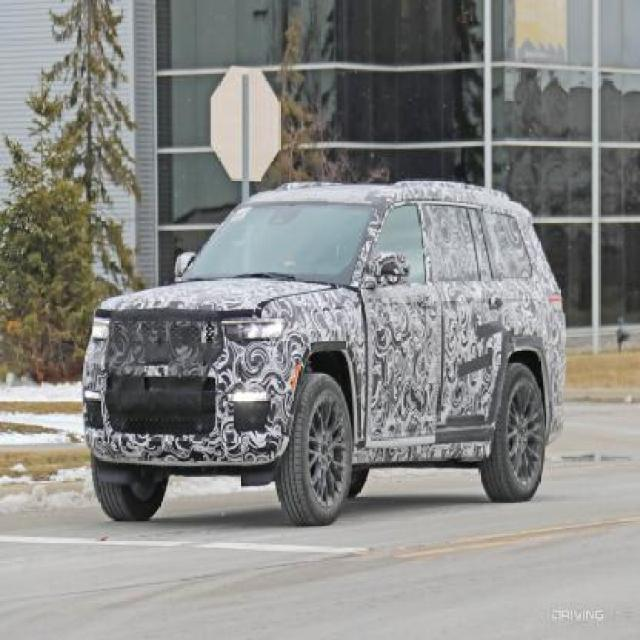Jeep: (78, 177, 568, 529)
